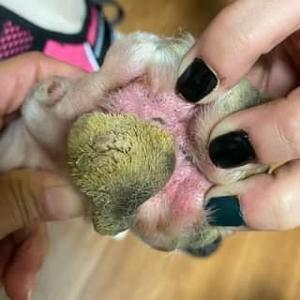keratosis: (63, 108, 177, 237)
